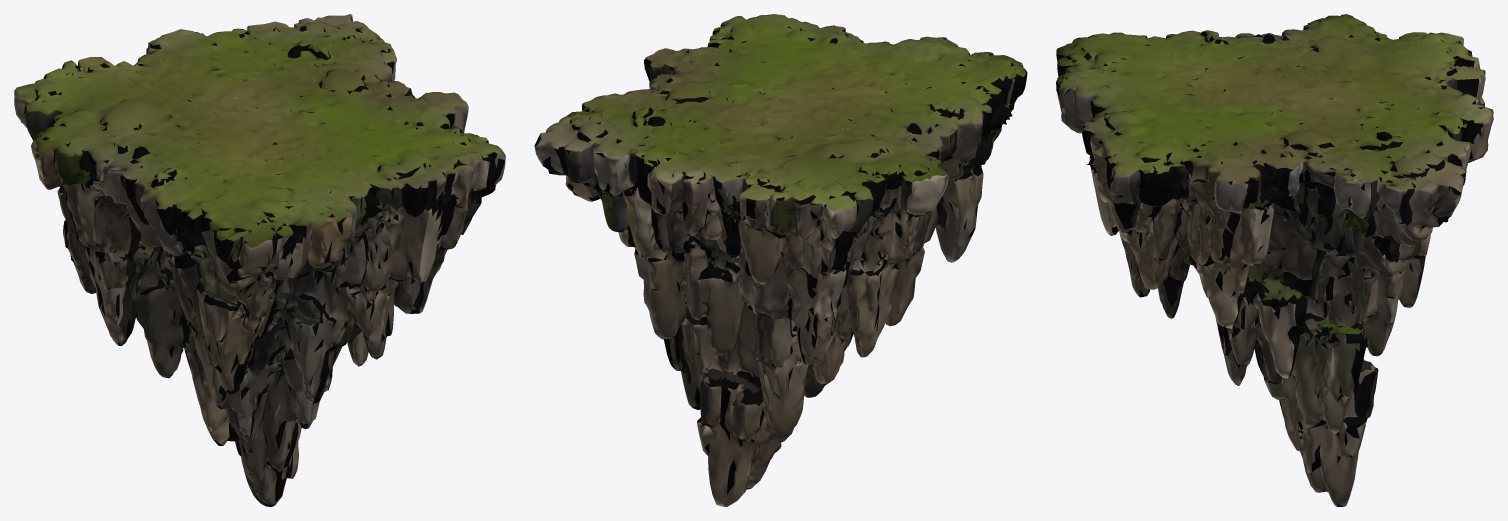
Rendered from island-repaired.glb.
The picture shows the model from 3 angles, left to right: view 1: azimuth 30°, elevation 25°; view 2: azimuth 150°, elevation 25°; view 3: azimuth 270°, elevation 25°; orthographic projection. The views are drawn at different scales.
Parts seen in each view (by area): view 1: island_master; view 2: island_master; view 3: island_master.
Part boxes in pixels (x1=…): island_master: x1=14, y1=14, x2=505, y2=506; island_master: x1=534, y1=14, x2=1027, y2=506; island_master: x1=1056, y1=14, x2=1493, y2=506.
Bounding box in the file's own units: 11.19 × 12 × 12.
1 material, 1 textured.
